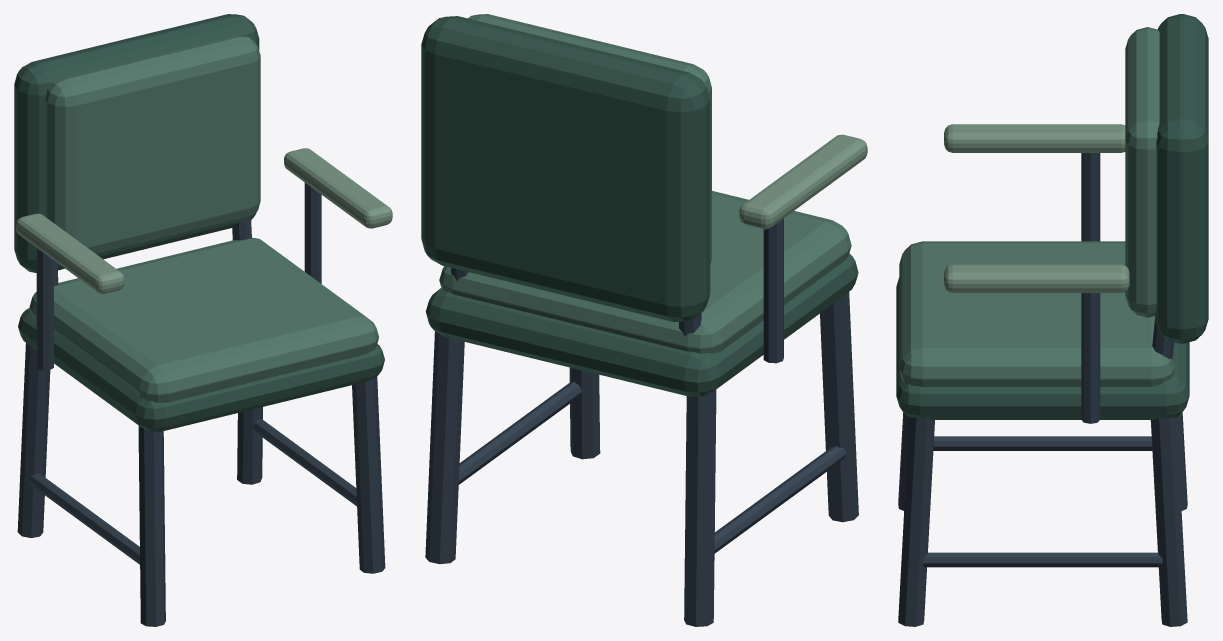
Rendered from chair_meeting.glb.
3 renders of one model, left to right at view 1: azimuth 30°, elevation 25°; view 2: azimuth 150°, elevation 25°; view 3: azimuth 270°, elevation 25°, orthographic. The views are drawn at different scales.
Visible parts, largest first — view 1: chair_meeting__green_velvet, chair_meeting__metal, chair_meeting__green_shadow, chair_meeting__green_edge; view 2: chair_meeting__green_shadow, chair_meeting__metal, chair_meeting__green_velvet, chair_meeting__green_edge; view 3: chair_meeting__green_velvet, chair_meeting__green_shadow, chair_meeting__metal, chair_meeting__green_edge.
Part boxes in pixels (x1,y1,x2,y2): chair_meeting__green_velvet: (29,35,378,402); chair_meeting__metal: (17,182,385,626); chair_meeting__green_shadow: (14,14,384,431); chair_meeting__green_edge: (16,148,392,293); chair_meeting__green_shadow: (421,16,858,396); chair_meeting__metal: (425,218,858,626); chair_meeting__green_velvet: (439,14,851,353); chair_meeting__green_edge: (739,134,867,229); chair_meeting__green_velvet: (899,27,1174,386); chair_meeting__green_shadow: (896,14,1208,419); chair_meeting__metal: (898,153,1187,626); chair_meeting__green_edge: (944,124,1129,292).
Size of the model in its own units: 0.612 by 0.9162 by 0.522.
